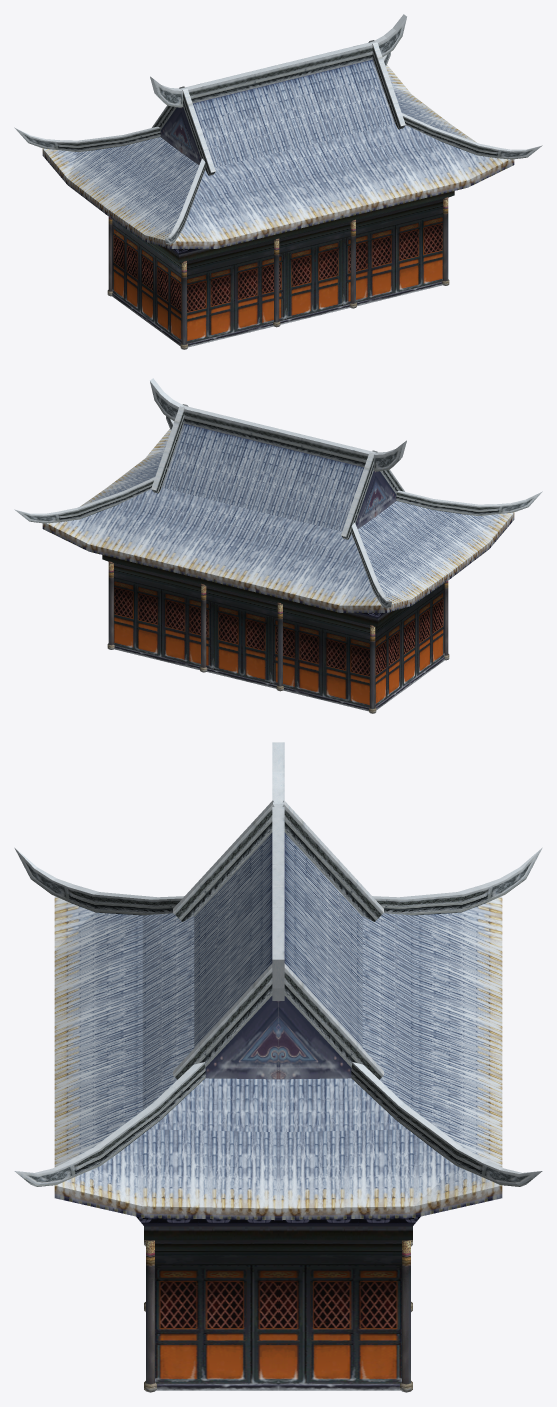
File: jz_louge_06.FBX
3 views of the same model, one above another, from view 1: azimuth 30°, elevation 25°; view 2: azimuth 150°, elevation 25°; view 3: azimuth 270°, elevation 25° (orthographic). The views are drawn at different scales.
Parts seen in each view (by area): view 1: jz_louge_06; view 2: jz_louge_06; view 3: jz_louge_06.
Boxes of the visible parts, x1,y1,x2,y2 form: jz_louge_06: (14, 14, 542, 349); jz_louge_06: (14, 378, 542, 713); jz_louge_06: (14, 742, 542, 1392).
Bounding box in the file's own units: 2579 × 1587 × 1780.
